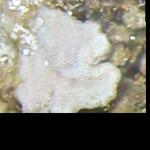alive: (1, 1, 148, 111)
